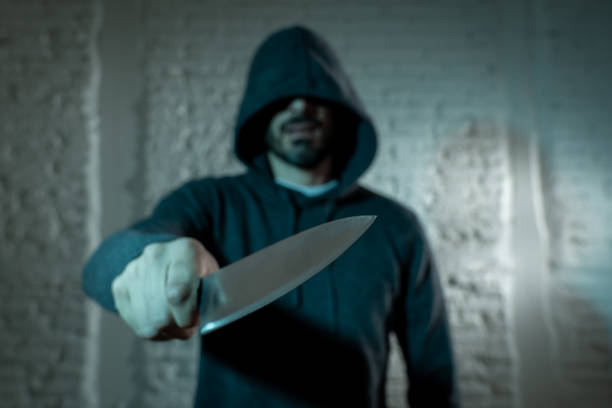knife: (196, 211, 380, 336)
